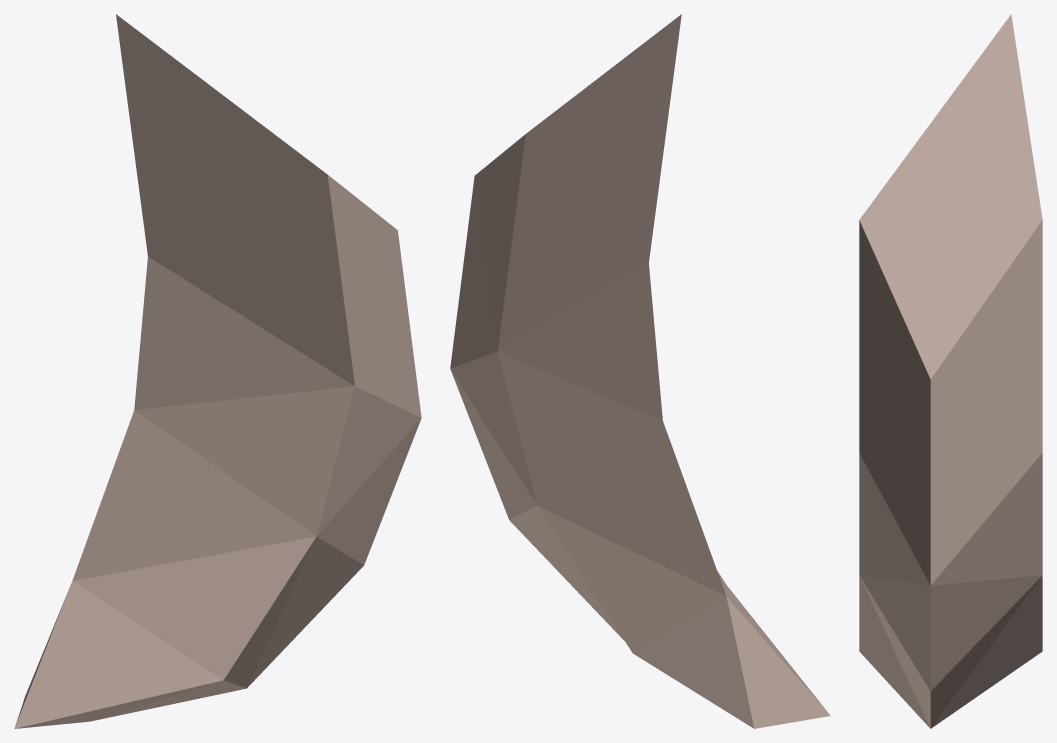
File: Garlic_1.fbx
The picture shows the model from 3 angles, left to right: view 1: azimuth 30°, elevation 25°; view 2: azimuth 150°, elevation 25°; view 3: azimuth 270°, elevation 25°; orthographic projection. The views are drawn at different scales.
Parts seen in each view (by area): view 1: Garlic_1; view 2: Garlic_1; view 3: Garlic_1.
Part boxes in pixels (x1,y1,x2,y2): Garlic_1: [14, 14, 421, 728]; Garlic_1: [450, 14, 830, 728]; Garlic_1: [859, 14, 1042, 728].
Size of the model in its own units: 25.12 by 42.02 by 10.21.
